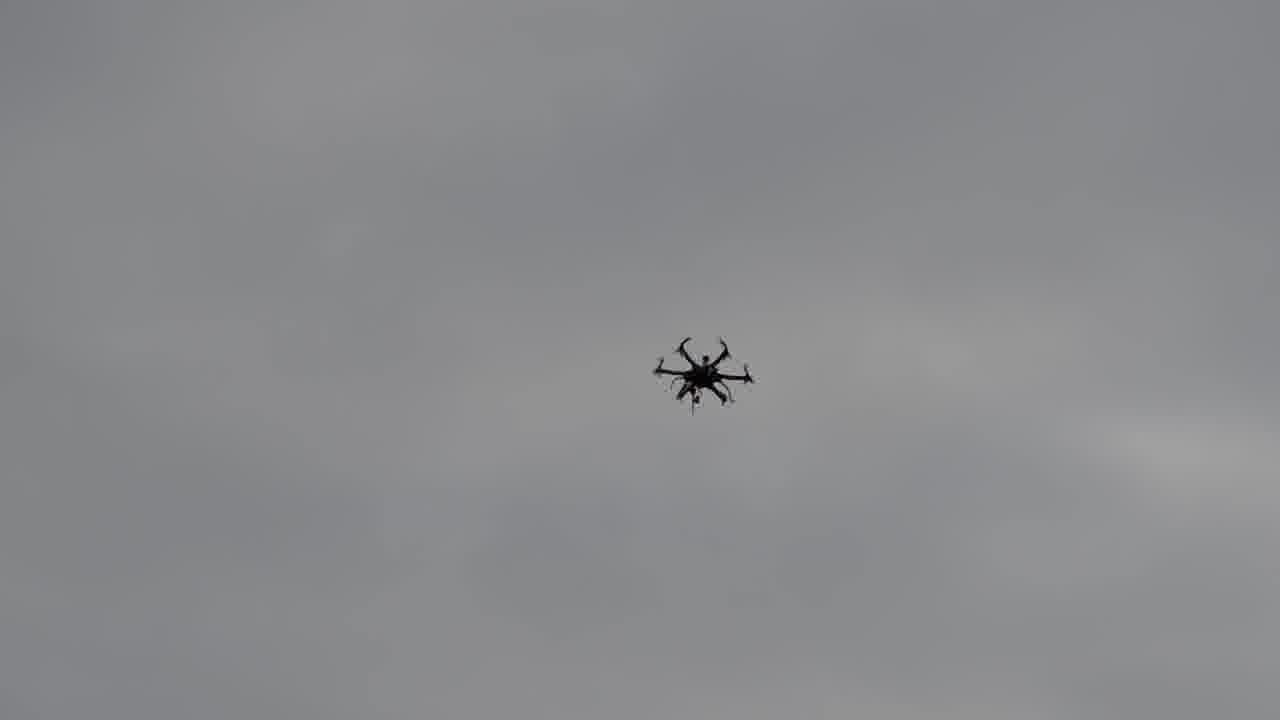drone: (646, 323, 761, 409)
